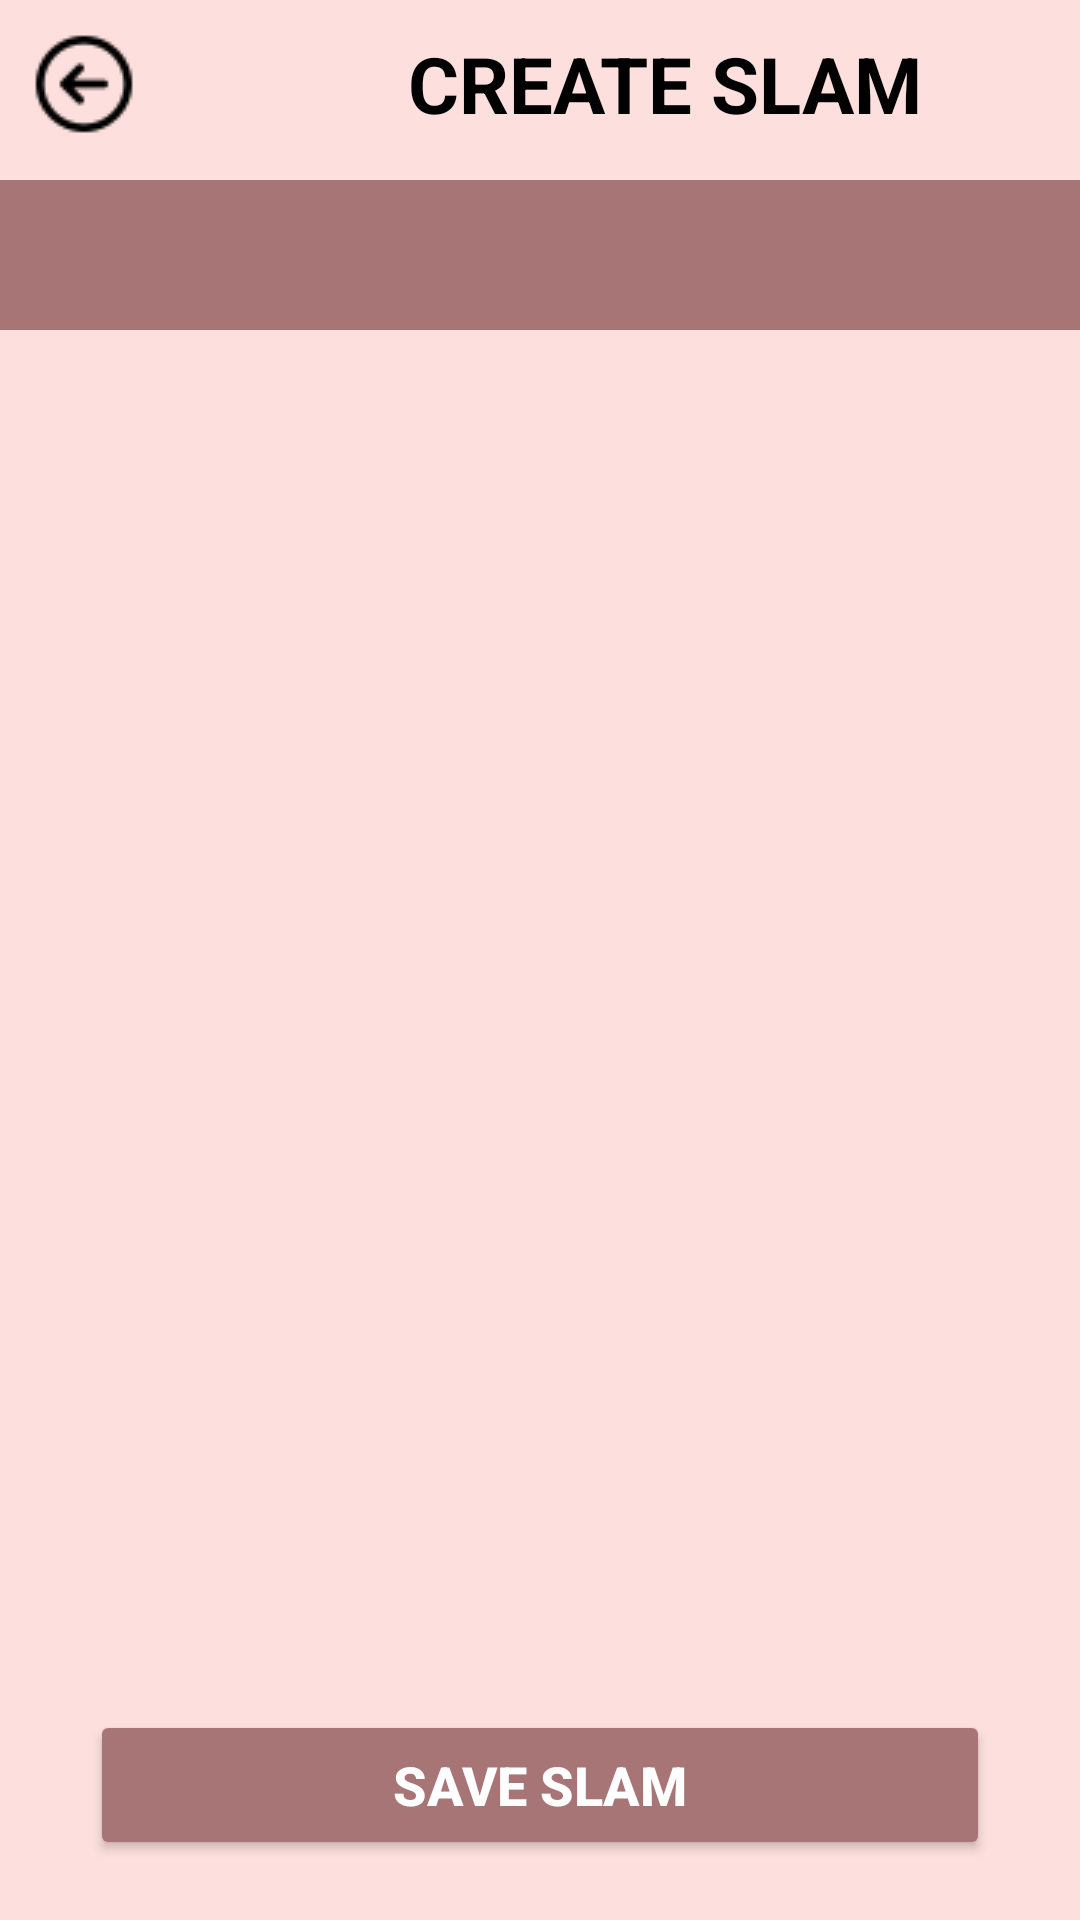

Named icons in this screenshot (1080x1920) and their centers, point (x, y):
Back: point (84, 84)
